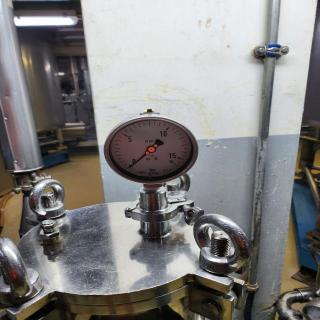gauge: (104, 115, 199, 182), (124, 158, 137, 174), (168, 158, 182, 170), (148, 147, 155, 153), (128, 165, 132, 170)
